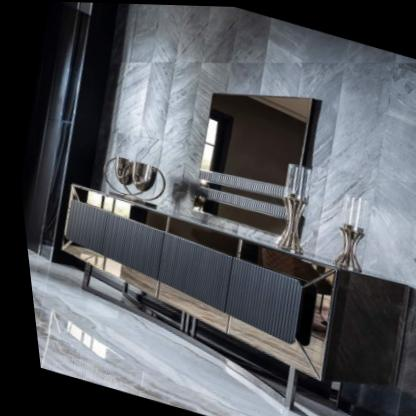Sideboard: (55, 184, 402, 416)
